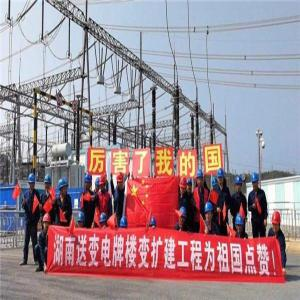blue: (204, 200, 215, 222), (235, 212, 245, 234), (58, 176, 68, 197), (216, 168, 226, 187), (251, 171, 261, 190), (77, 211, 87, 229), (28, 173, 38, 190), (99, 212, 109, 229), (84, 172, 93, 190), (235, 175, 244, 193), (196, 170, 205, 187), (45, 174, 53, 193), (179, 206, 187, 225), (120, 216, 129, 232), (186, 179, 194, 194), (95, 176, 101, 193)
red: (271, 209, 282, 234), (179, 176, 189, 197), (116, 171, 126, 190), (43, 214, 52, 232), (99, 175, 107, 191)
